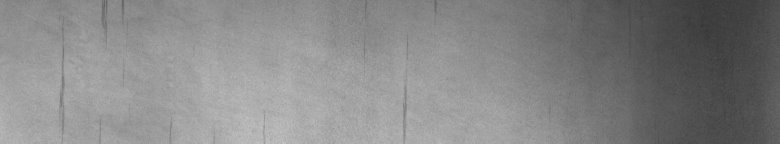ka: (56, 4, 124, 133)
